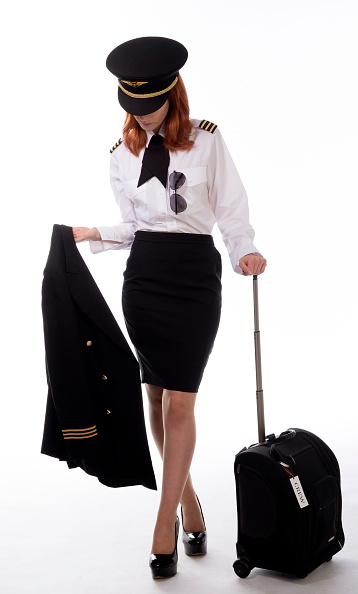em pe: (33, 32, 271, 572)
